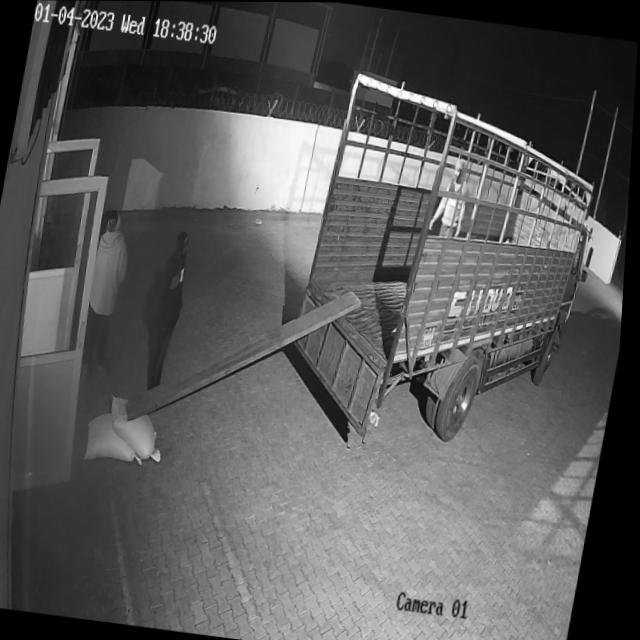sack: (107, 393, 175, 461), (86, 409, 153, 464)
